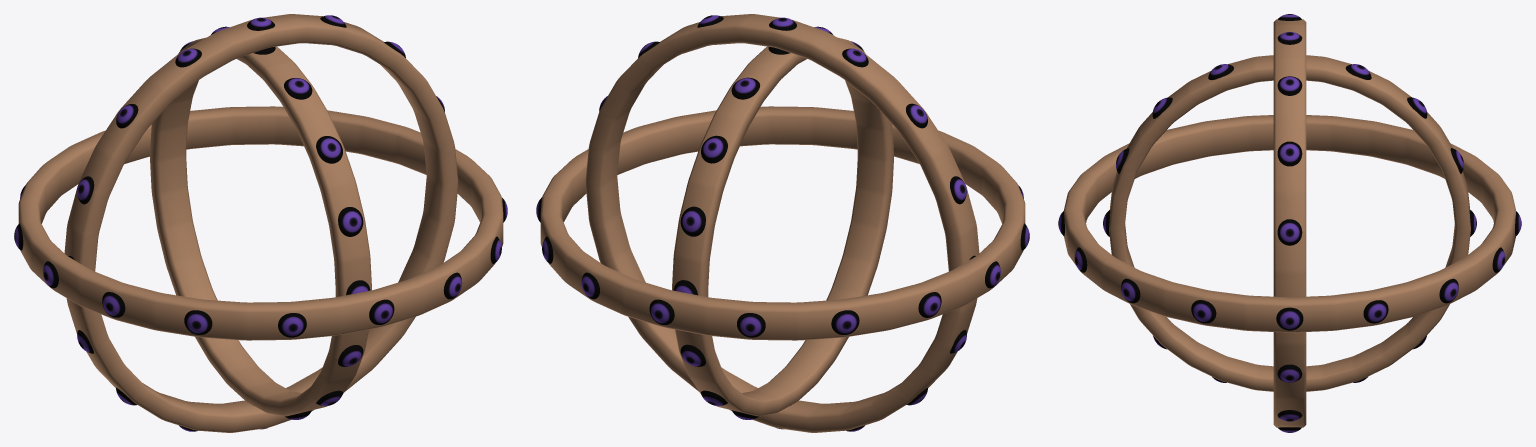
The model's file is AngelMoreRings.fbx.
3 views of the same model, side by side, from view 1: azimuth 30°, elevation 25°; view 2: azimuth 150°, elevation 25°; view 3: azimuth 270°, elevation 25° (orthographic). The views are drawn at different scales.
Visible parts, largest first — view 1: AngelMoreRings; view 2: AngelMoreRings; view 3: AngelMoreRings.
Boxes of the visible parts, left/top/right/bottom form: AngelMoreRings: left=14, top=14, right=507, bottom=432; AngelMoreRings: left=536, top=14, right=1029, bottom=432; AngelMoreRings: left=1058, top=14, right=1521, bottom=432.
Bounding box in the file's own units: 498 × 451 × 498.
